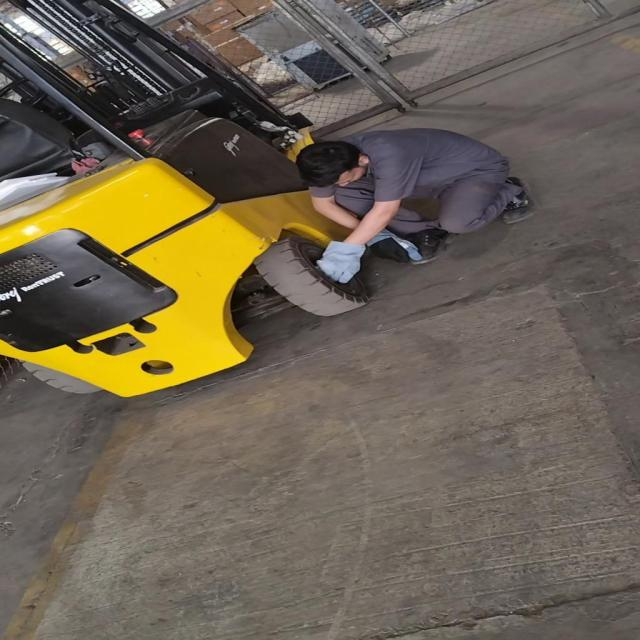Gloves-Detection: (367, 227, 429, 270), (314, 238, 366, 284)
